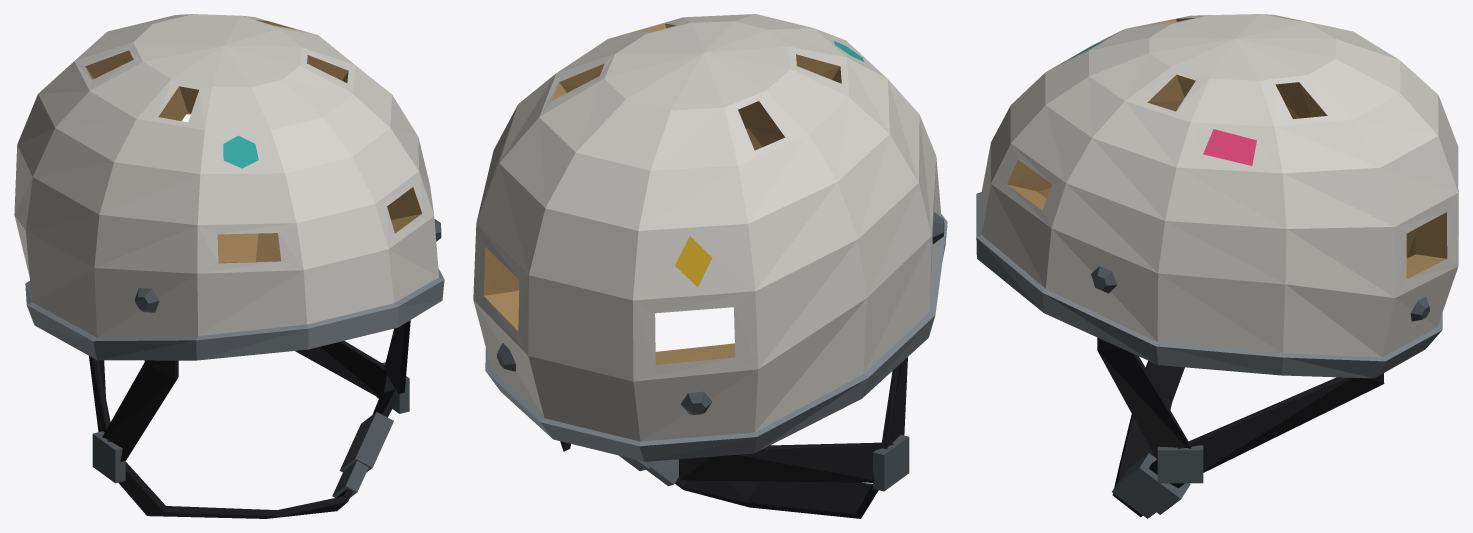
Rendered from skate-helmet-cf1e6e.glb.
3 views of the same model, side by side, from view 1: azimuth 30°, elevation 25°; view 2: azimuth 150°, elevation 25°; view 3: azimuth 270°, elevation 25° (orthographic). The views are drawn at different scales.
Visible parts, largest first — view 1: skate-helmet-body; view 2: skate-helmet-body; view 3: skate-helmet-body.
Boxes of the visible parts, left/top/right/bottom form: skate-helmet-body: left=14, top=14, right=444, bottom=518; skate-helmet-body: left=473, top=14, right=947, bottom=518; skate-helmet-body: left=976, top=14, right=1458, bottom=518.
Size of the model in its own units: 0.2188 by 0.2705 by 0.2649.
